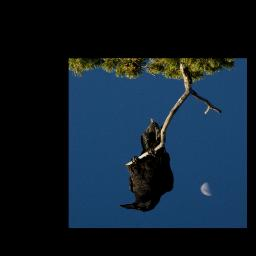Crow: (118, 116, 174, 212)
